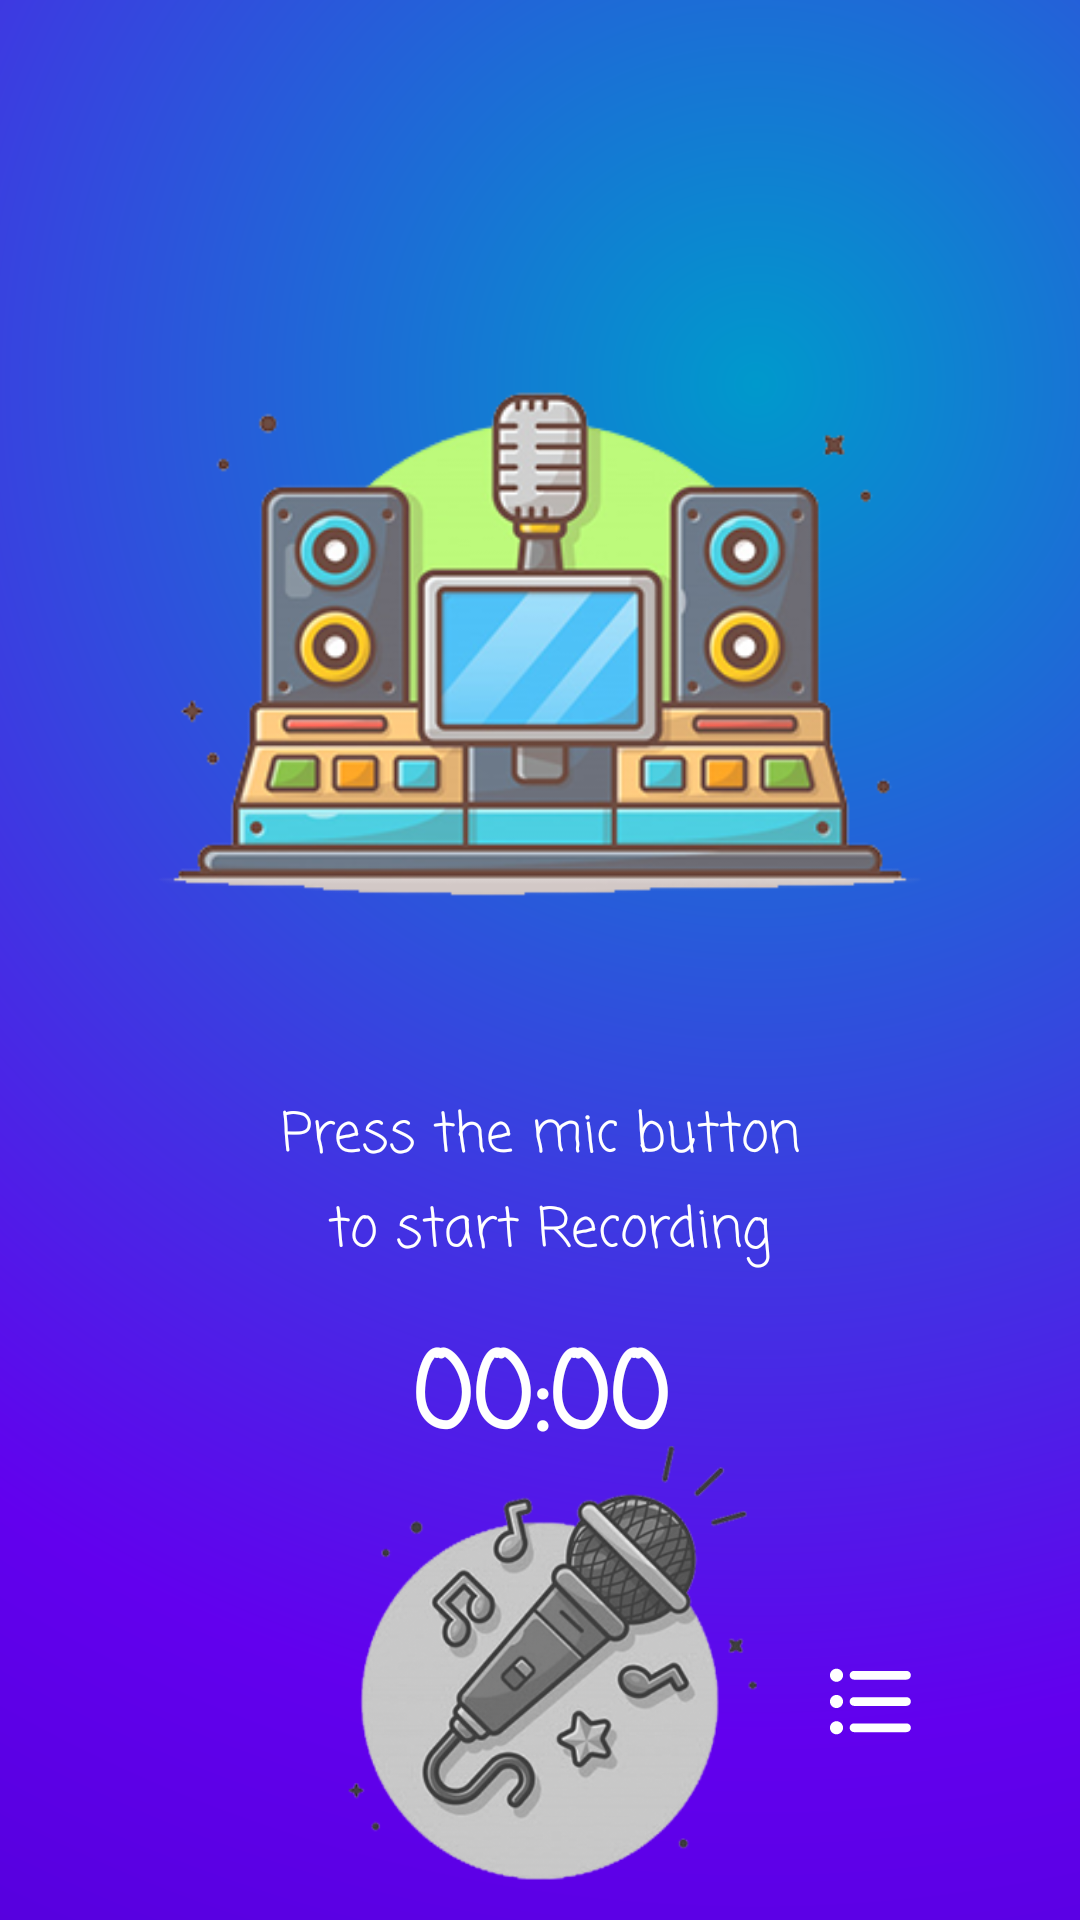

Icon click points for this 1080x1920 phone screenshot, format (x=x, y=y):
playlist: (x=870, y=1701)
